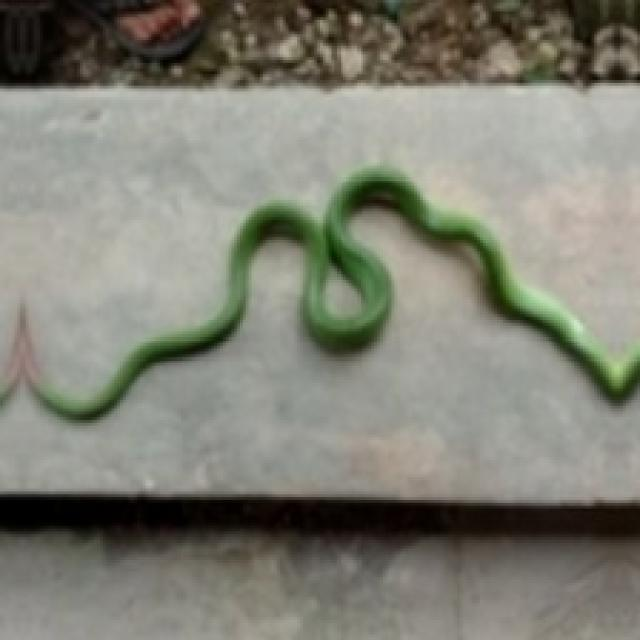red-tailed green ratsnake: (0, 166, 637, 417)
